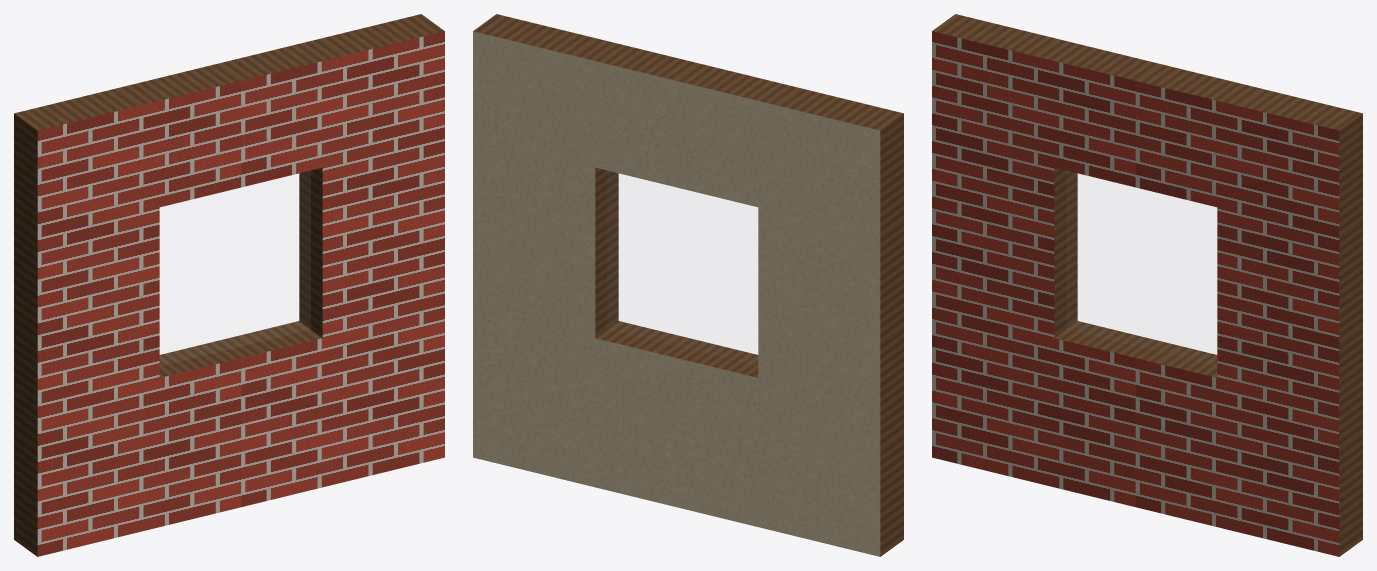
The model's file is Wall_Window.gltf.
3 views of the same model, side by side, from view 1: azimuth 30°, elevation 25°; view 2: azimuth 150°, elevation 25°; view 3: azimuth 330°, elevation 25° (orthographic).
Parts seen in each view (by area): view 1: Wall_Window; view 2: Wall_Window; view 3: Wall_Window.
Boxes of the visible parts, x1,y1,x2,y2 form: Wall_Window: [14, 14, 444, 556]; Wall_Window: [473, 14, 903, 556]; Wall_Window: [932, 14, 1362, 556].
Bounding box in the file's own units: 2 × 2 × 0.2.
Materials: 4 (3 with a texture image).
